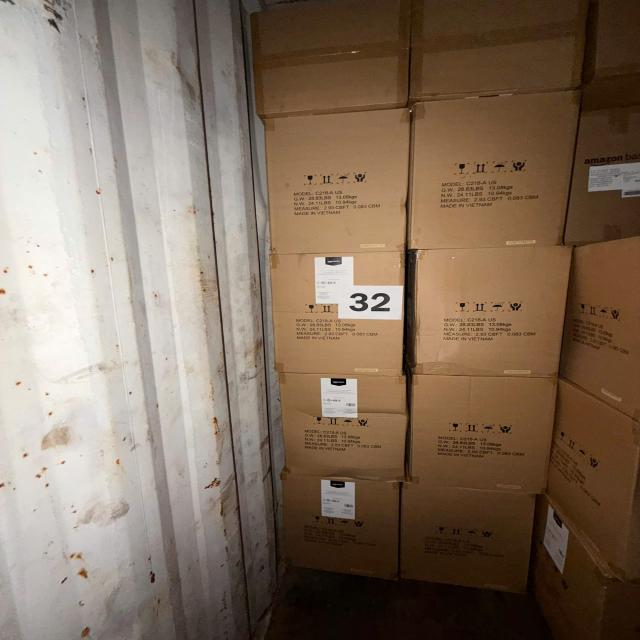Carton: (407, 90, 576, 248), (408, 242, 570, 376), (271, 104, 415, 251), (238, 0, 406, 116), (405, 372, 555, 492), (265, 252, 409, 374), (401, 0, 580, 95), (559, 379, 640, 579), (529, 497, 640, 640), (398, 485, 534, 599), (274, 372, 410, 482), (563, 230, 639, 422), (277, 474, 402, 580), (563, 68, 637, 245), (590, 0, 640, 75)
